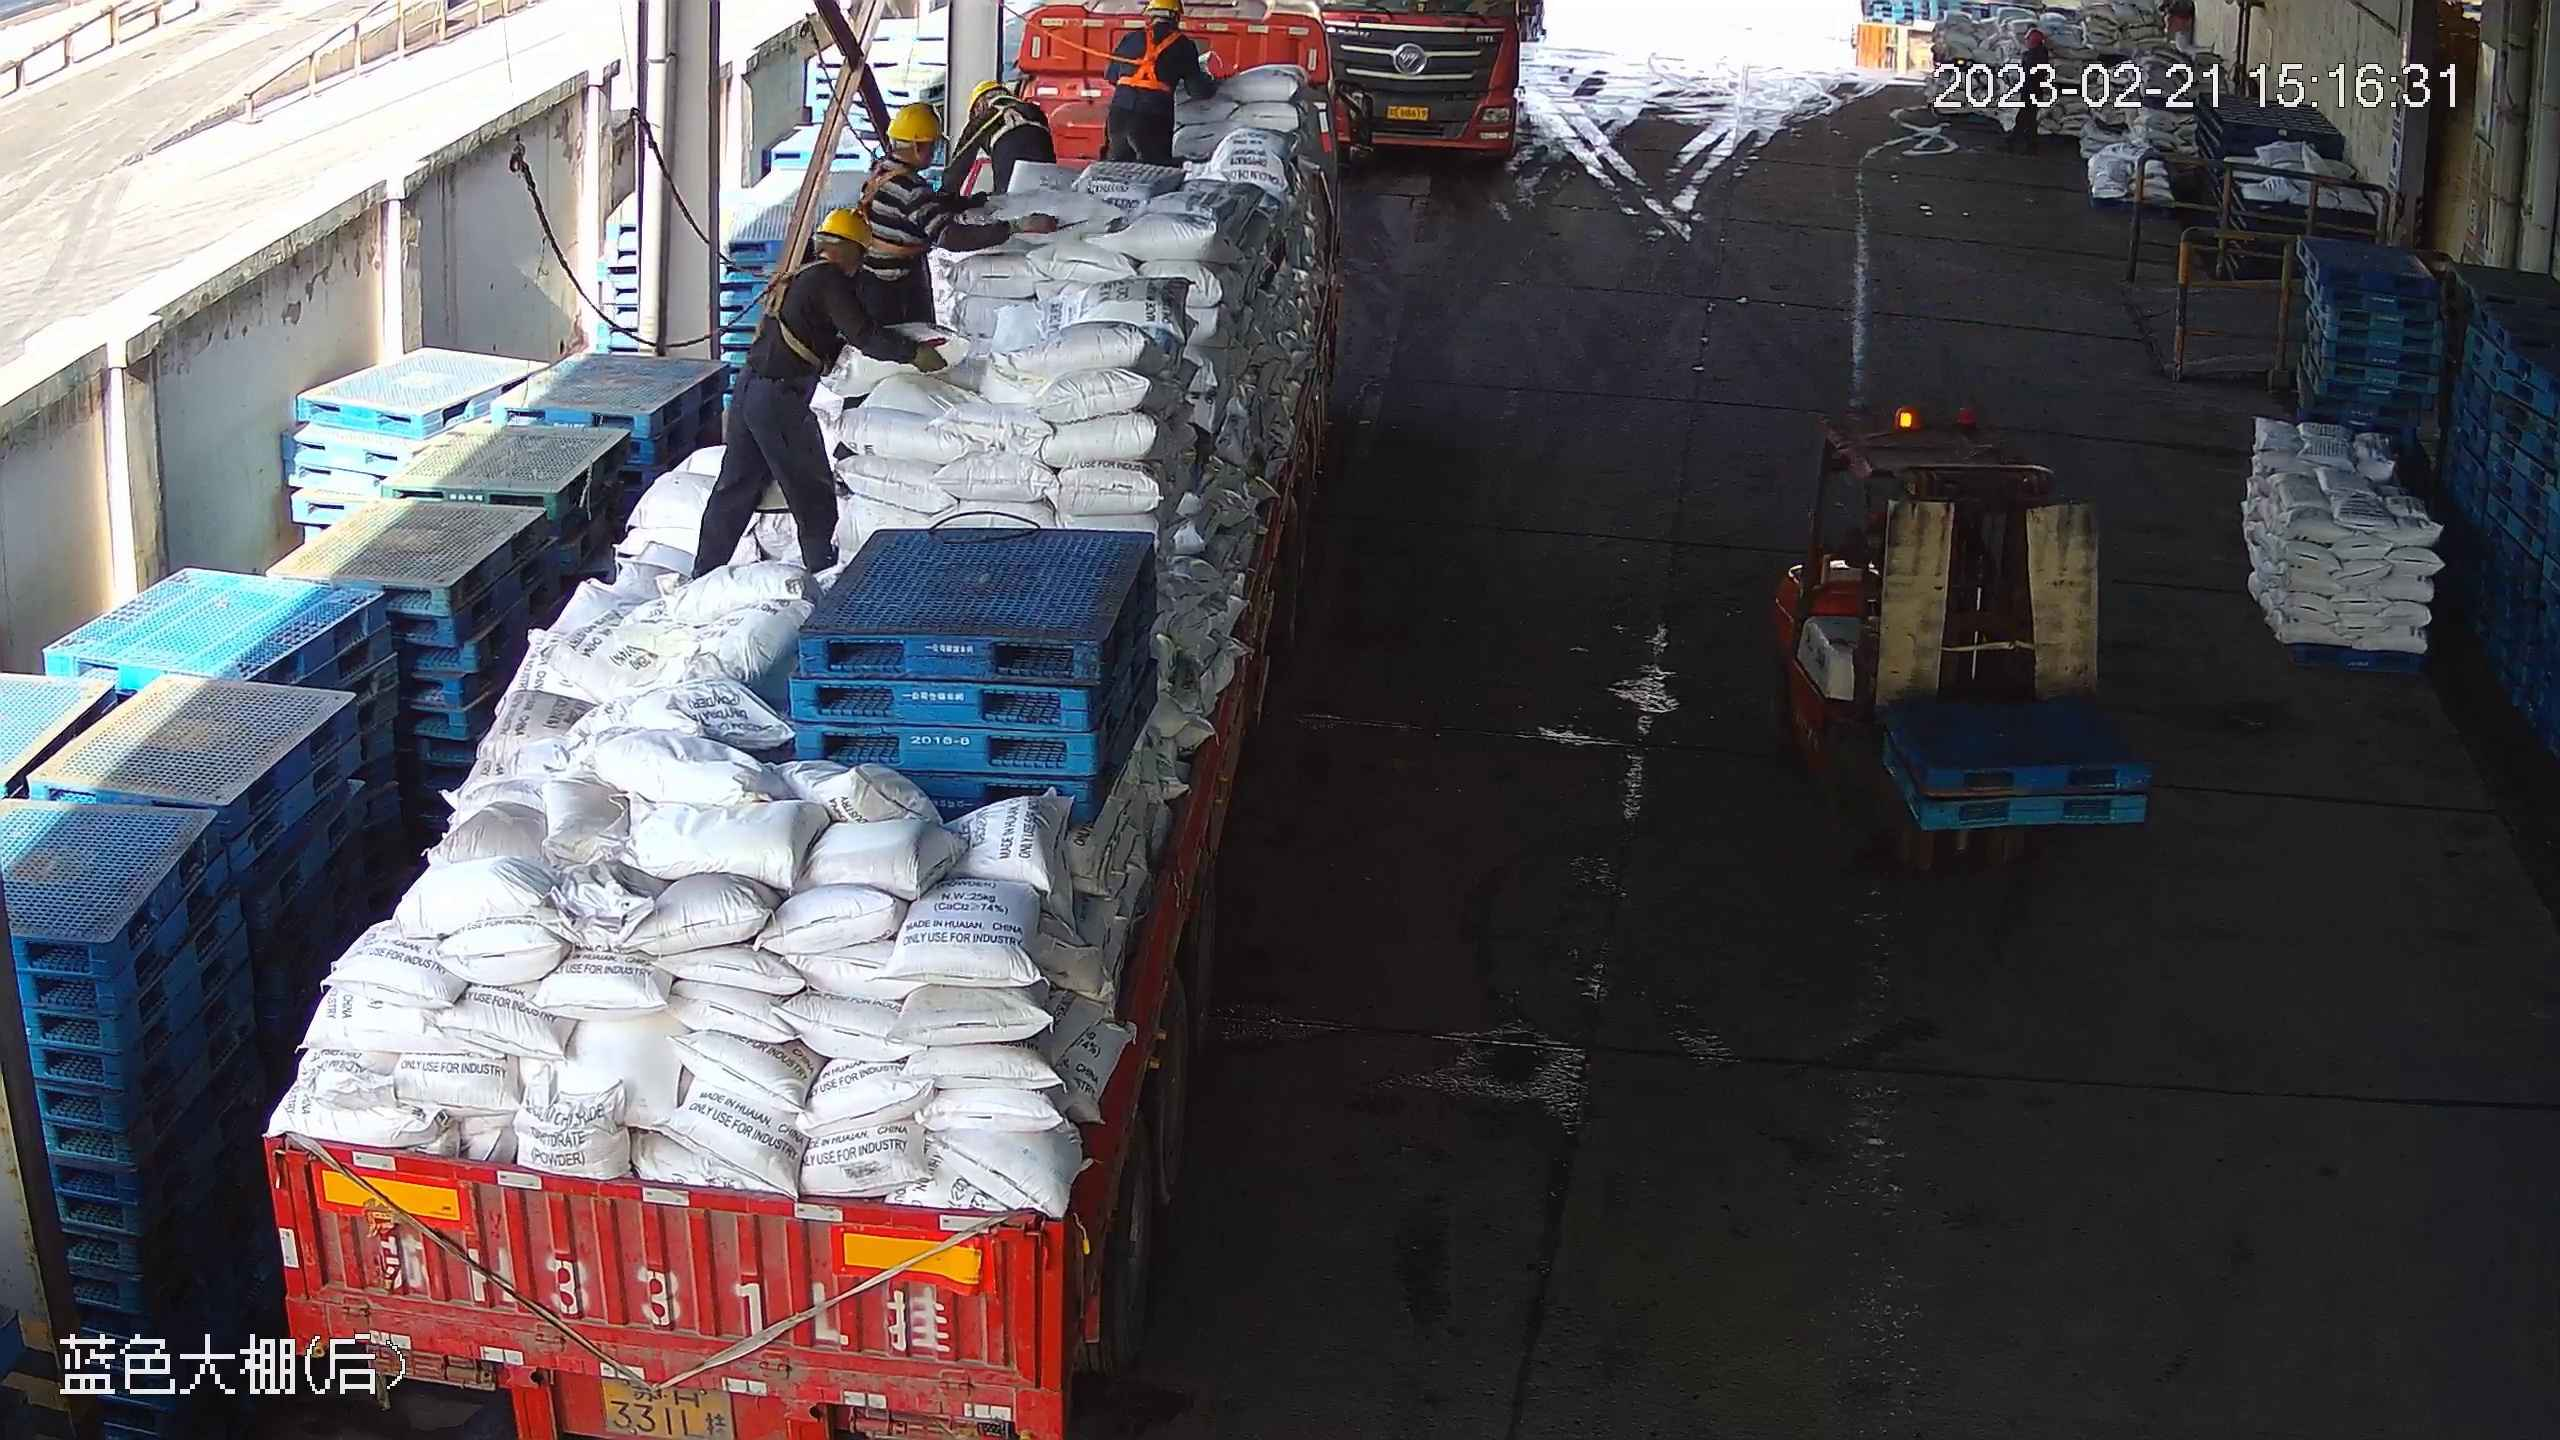belt: (757, 258, 853, 375), (862, 155, 938, 253), (1116, 18, 1194, 90), (986, 103, 1066, 136)
head: (759, 205, 892, 338), (853, 90, 955, 214), (1107, 3, 1203, 71), (966, 80, 1052, 129)
helmet: (883, 99, 953, 147), (818, 203, 868, 249)
people: (698, 197, 877, 586), (847, 86, 962, 344), (1108, 1, 1216, 170)
truck: (238, 5, 1336, 1440), (1320, 1, 1535, 166)
